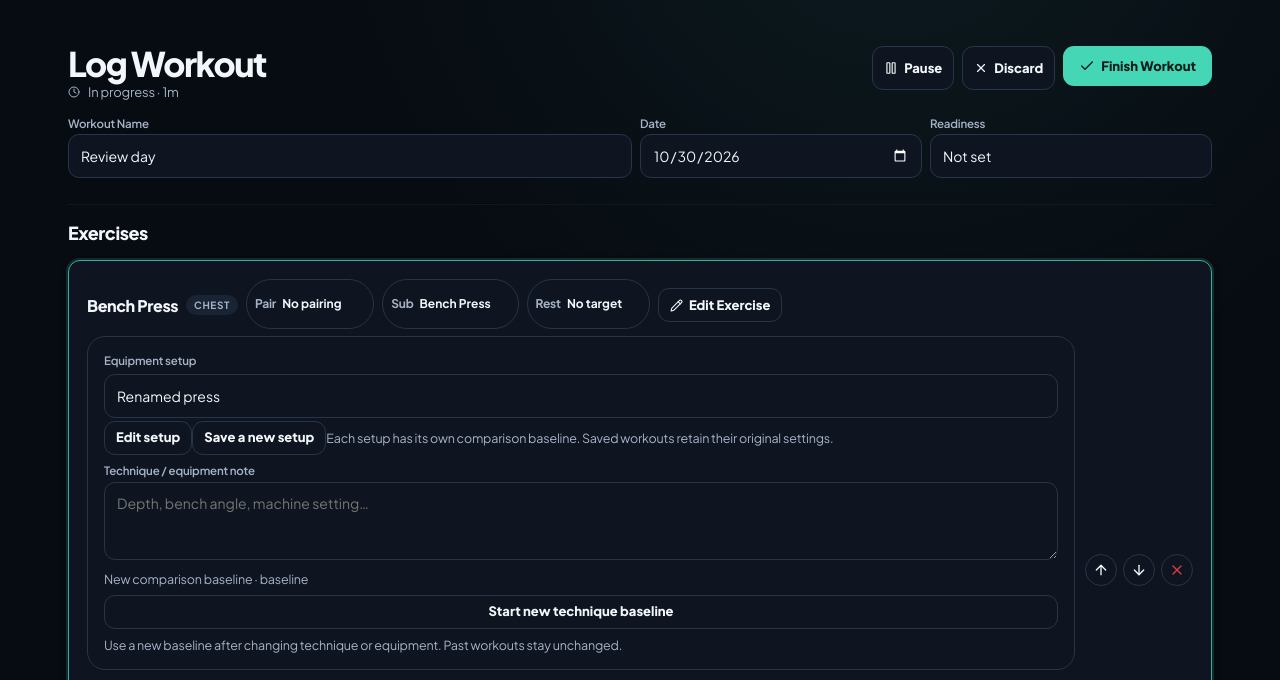
workout finish review › names the saved equipment on a new personal best, despite a renamed library entry
Click the button "Finish Workout": (1138,66) [1063,46,1212,86]
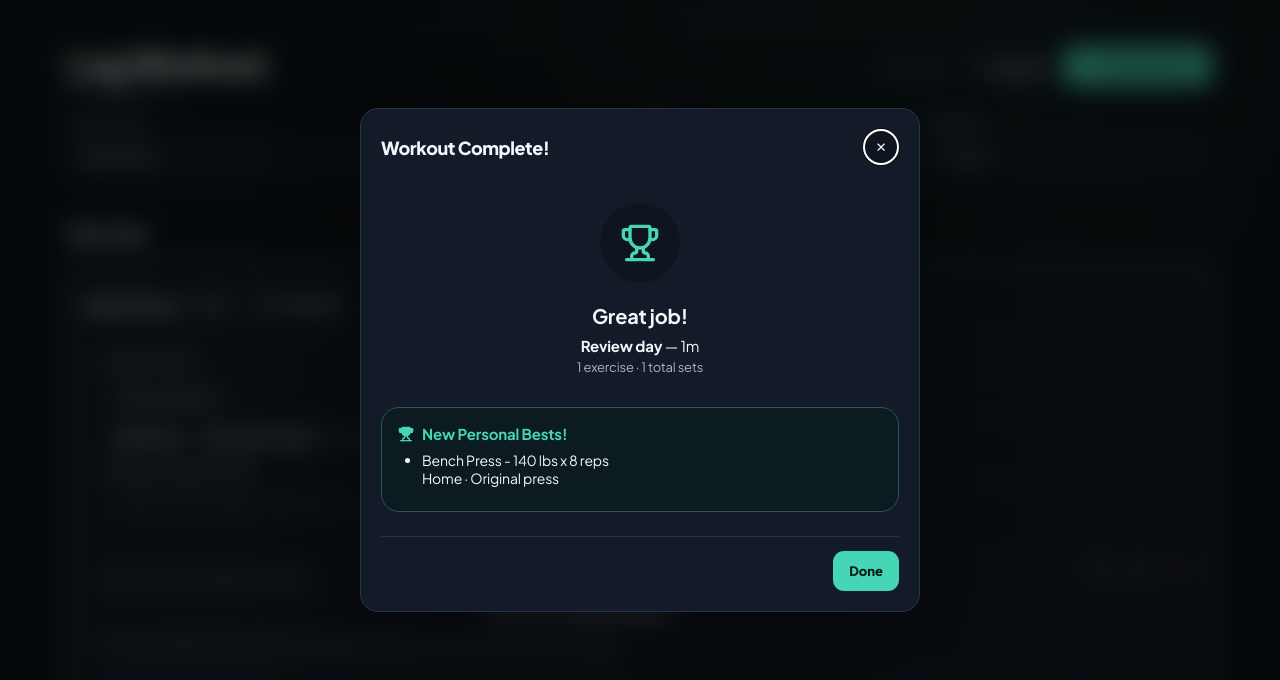
Check: the list item "Bench Press - 140 lbs x 8 reps Home · Original press" is shown, box [422,451,609,487]
